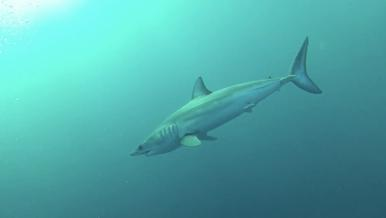Shark -Selachimorpha-: (128, 34, 323, 160)
